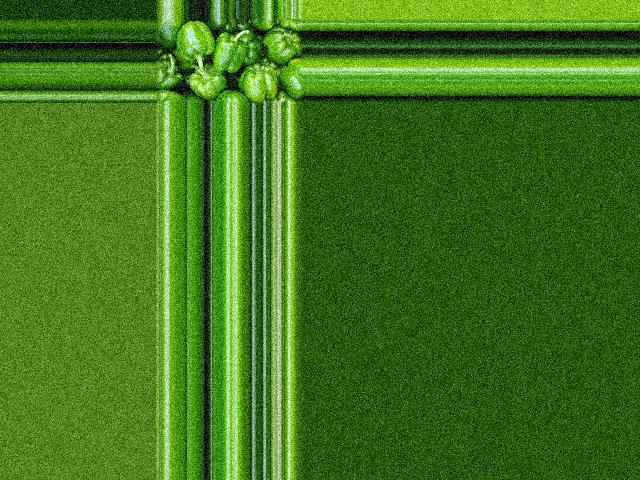bell_pepper: (155, 19, 188, 46)
